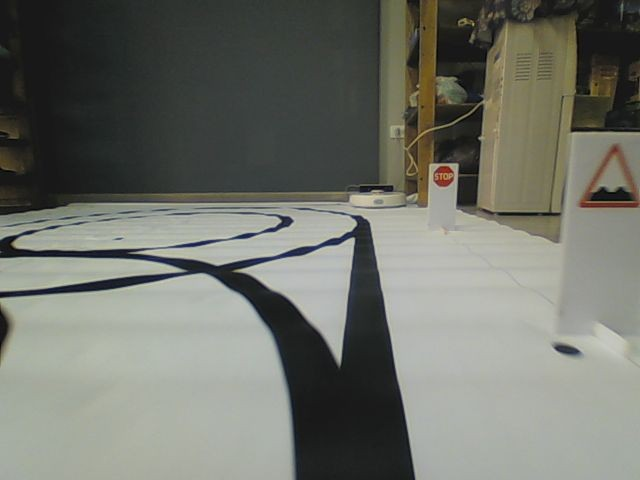Stop: (432, 166, 455, 188)
